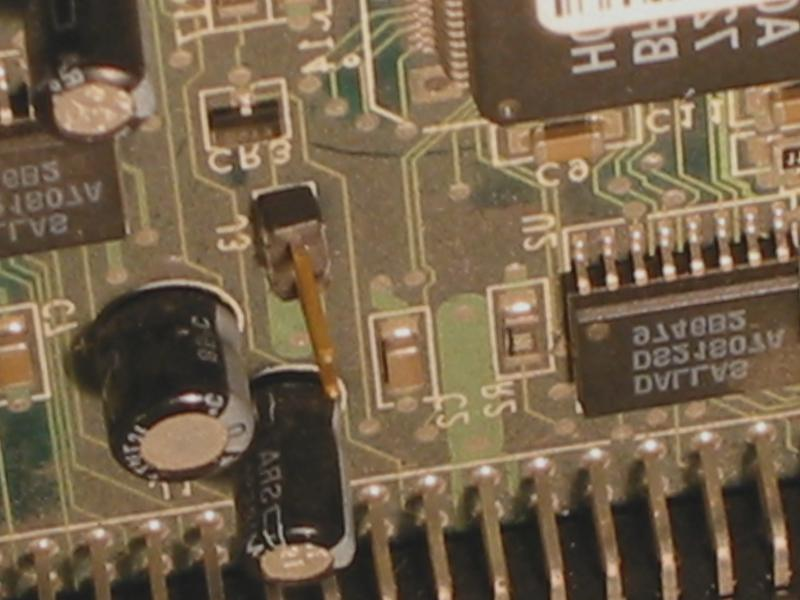Capacitor: (84, 284, 258, 486), (225, 364, 362, 587), (16, 1, 164, 148)
